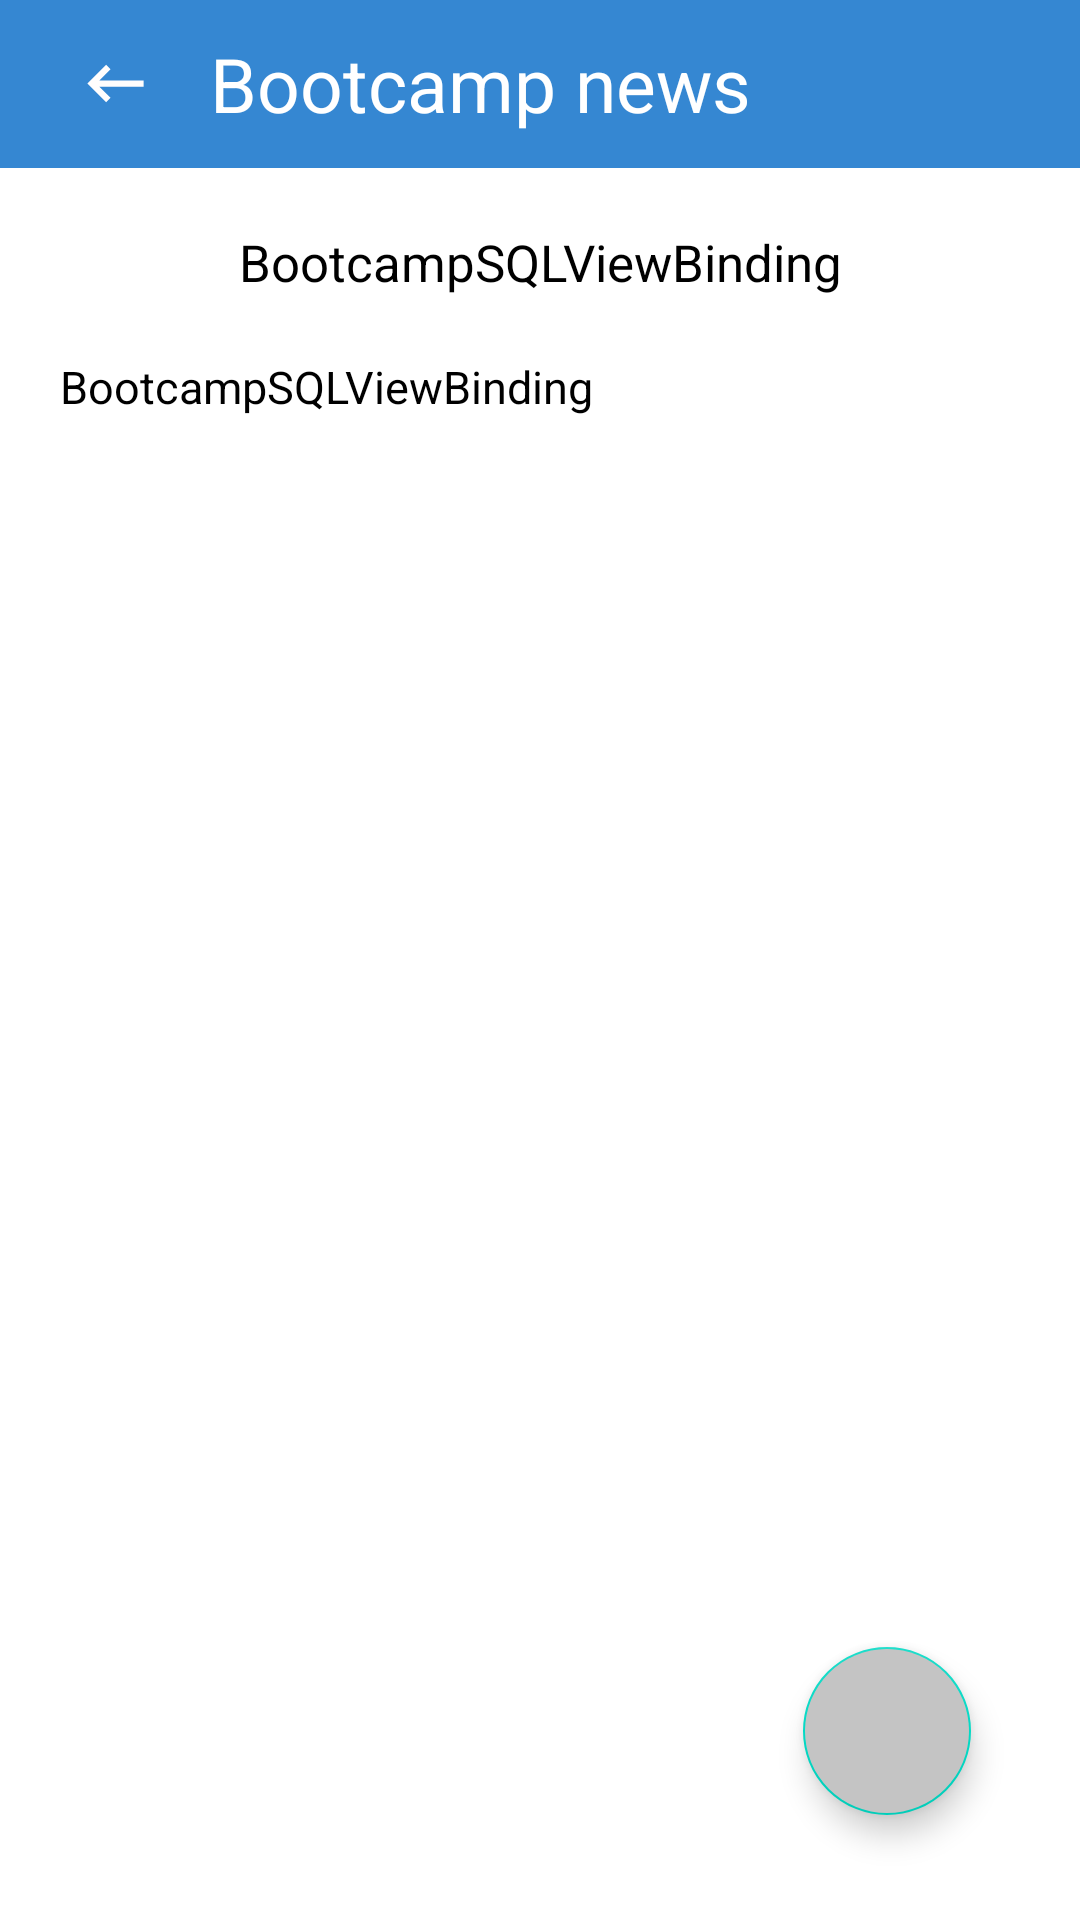

Named icons in this screenshot (1080×1920) and their bounding boxes, [x1,y1,x2,y2]:
keyboard backspace: [87,65,144,102]
